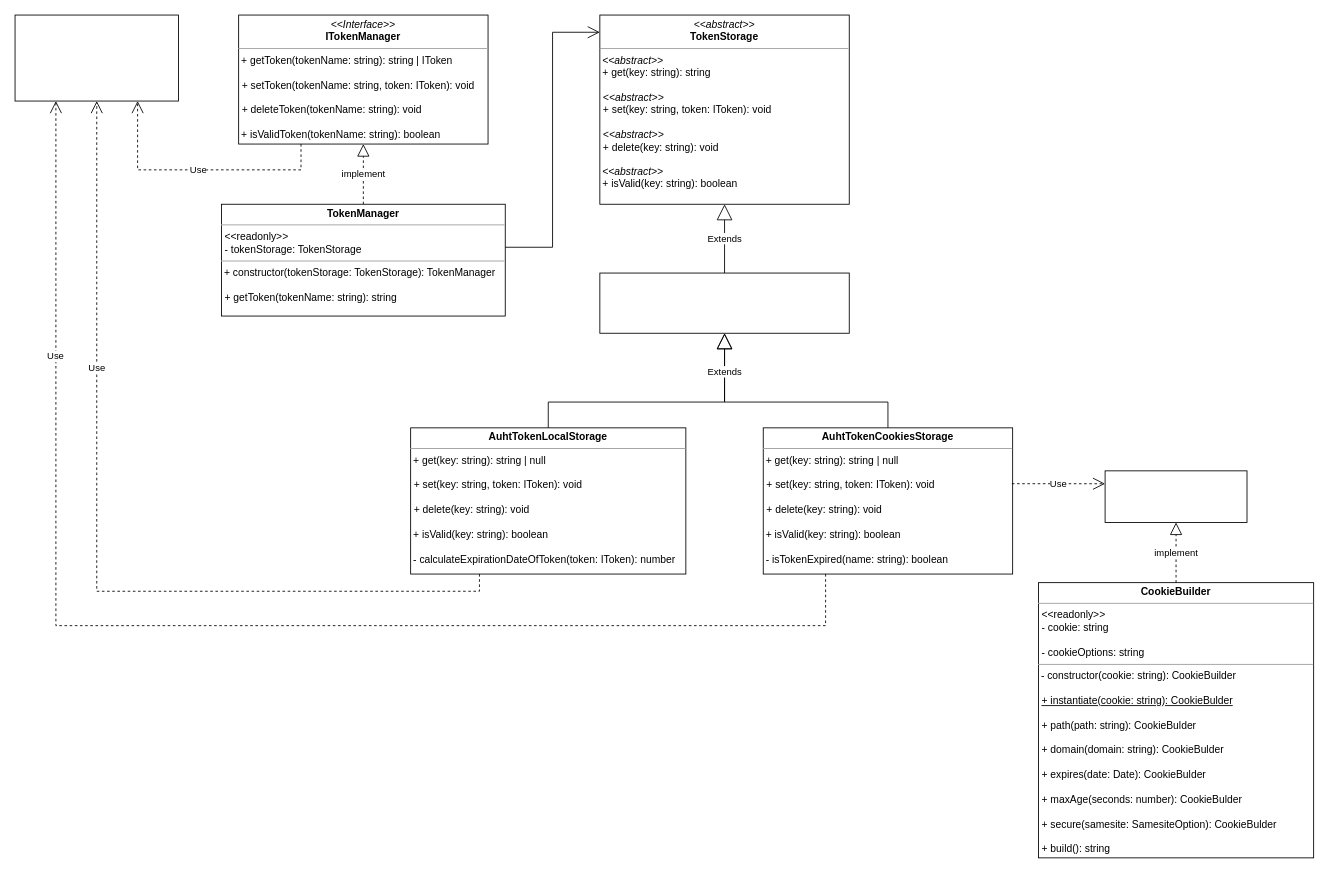
Some shapes in this 1329 by 873 pixel diagram are drawn without their labels. The centre of each missing label's shape, as x and y in pixels:
<<abstract>> AuthTokenStorage: point 724,302
<<Interface>> ICookieBuilder + build(): any: point 1175,496
<<Interface>> IToken + token: string + expireIn: number: point 96,57
